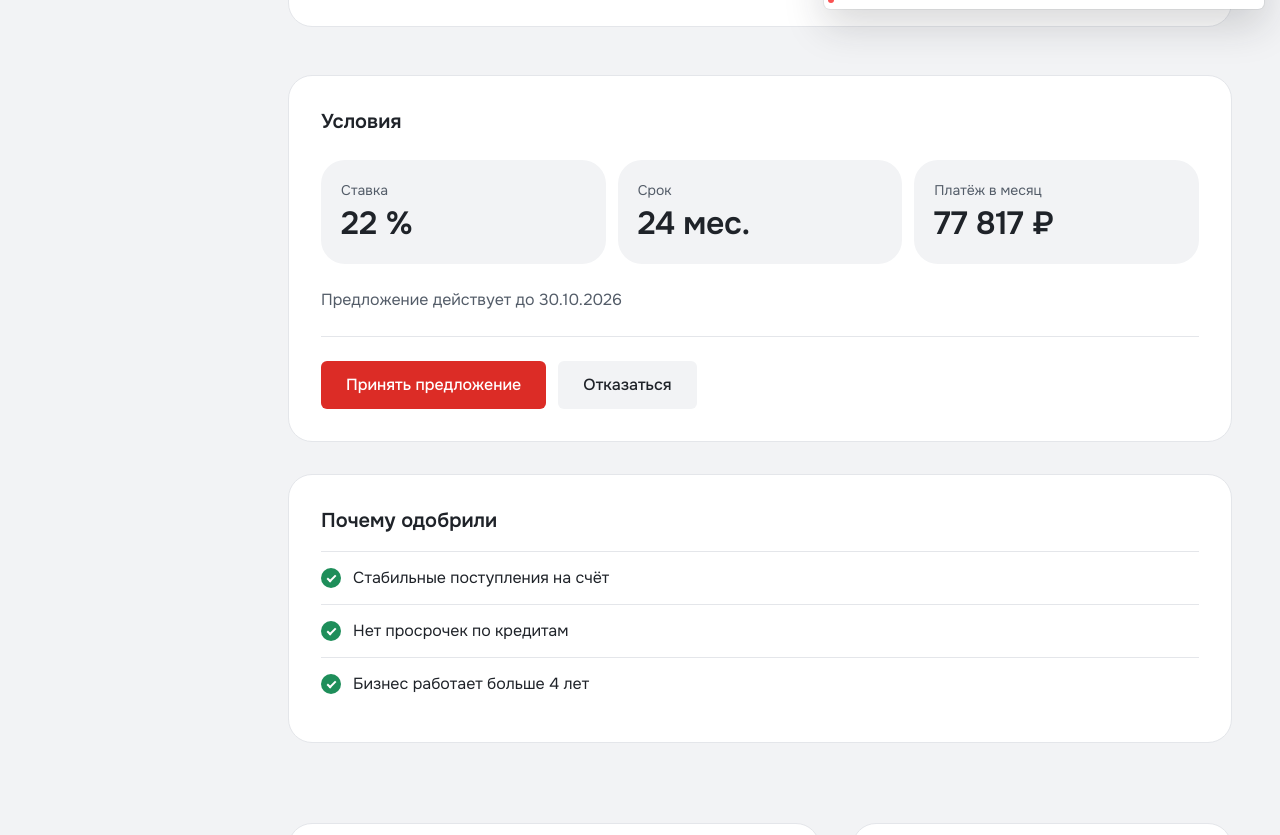
Scenario: 501 NOT_IMPLEMENTED: понятная ошибка и повторное чтение при конфликте
(page scrolled)
Click the button "Принять предложение": (434, 385) [321, 361, 546, 409]
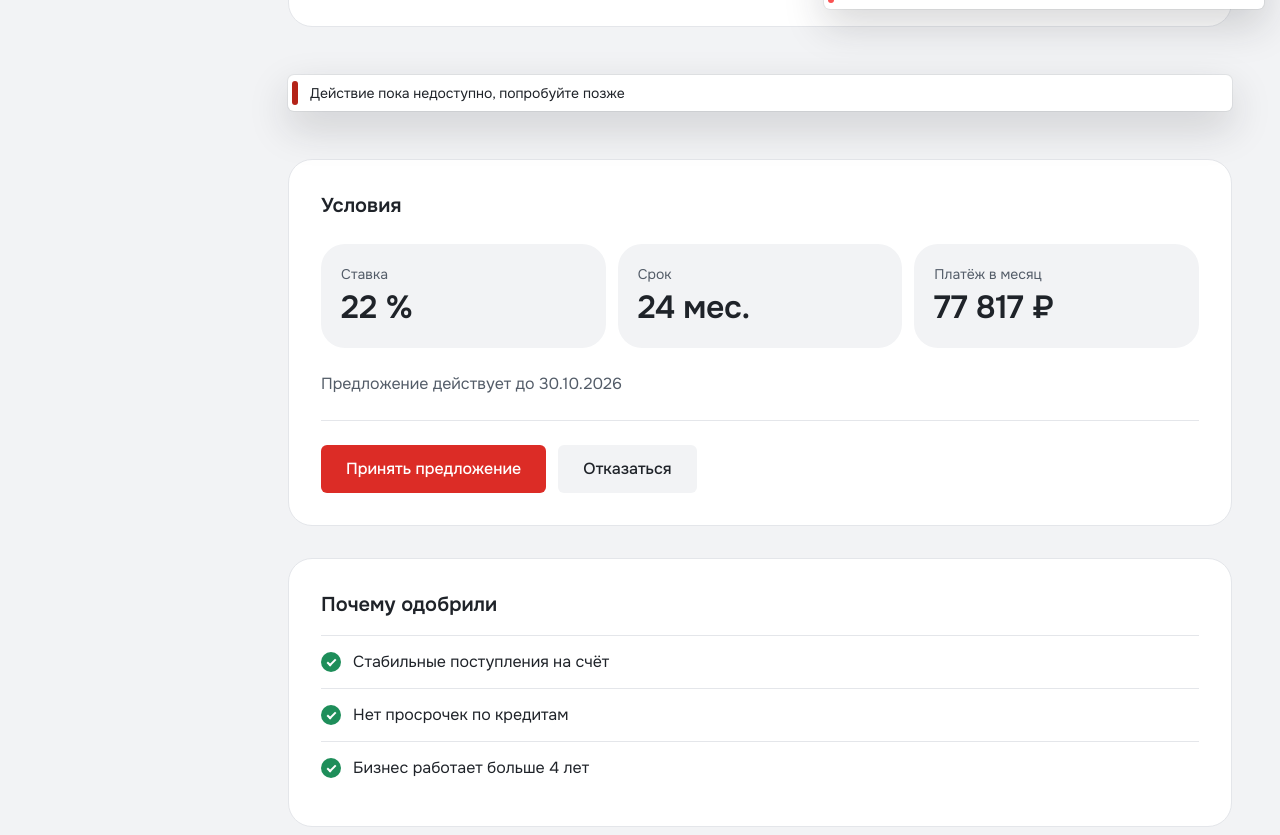
Expected: the text "Действие пока недоступно, попробуйте позже" is shown, [310, 84, 625, 102]
